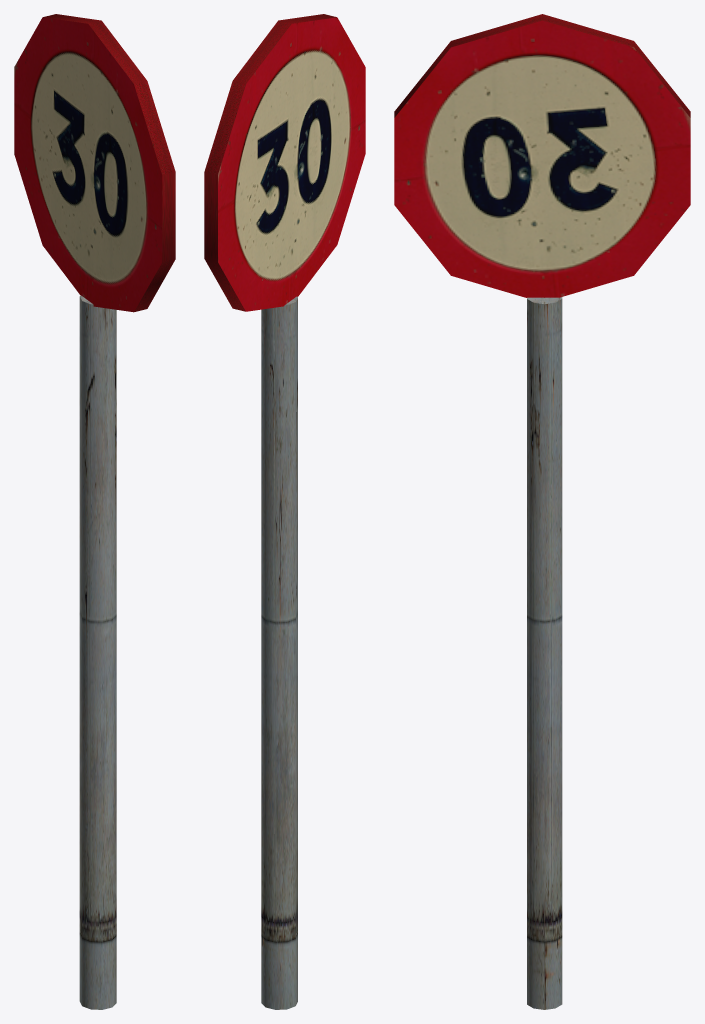
File: sign18.FBX
3 views of the same model, side by side, from view 1: azimuth 30°, elevation 25°; view 2: azimuth 150°, elevation 25°; view 3: azimuth 270°, elevation 25° (orthographic).
Visible parts, largest first — view 1: Cylinder002; view 2: Cylinder002; view 3: Cylinder002.
Boxes of the visible parts, box(x1,y1,x2,y2) form: Cylinder002: box(14, 14, 175, 1009); Cylinder002: box(204, 14, 365, 1009); Cylinder002: box(394, 14, 690, 1009).
Size of the model in its own units: 0.956 by 27.86 by 7.61.
